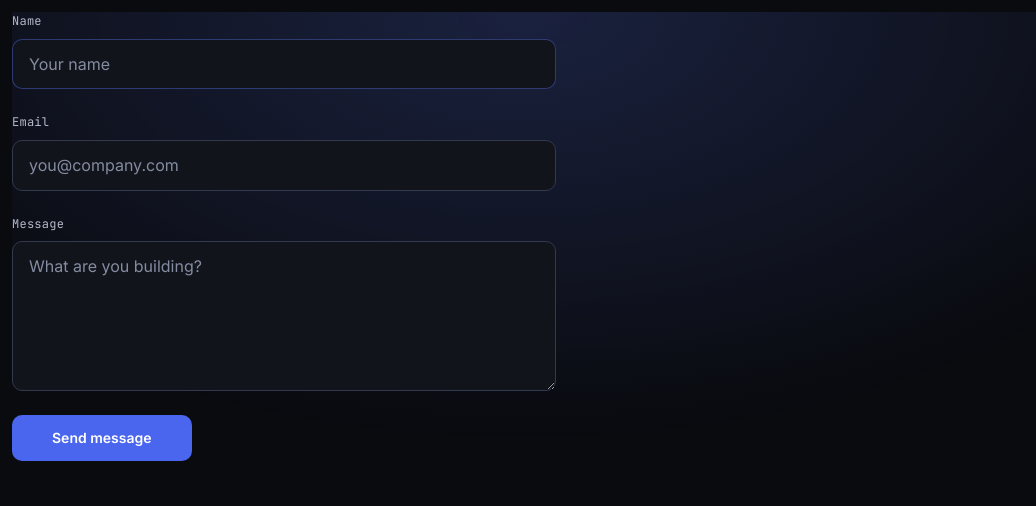
Test case: ContactForm › rejects a malformed email
The width and height of the screenshot is (1036, 506).
Type "not-an-address" into the field labelled "Email" at (284, 165), box [12, 140, 556, 191]
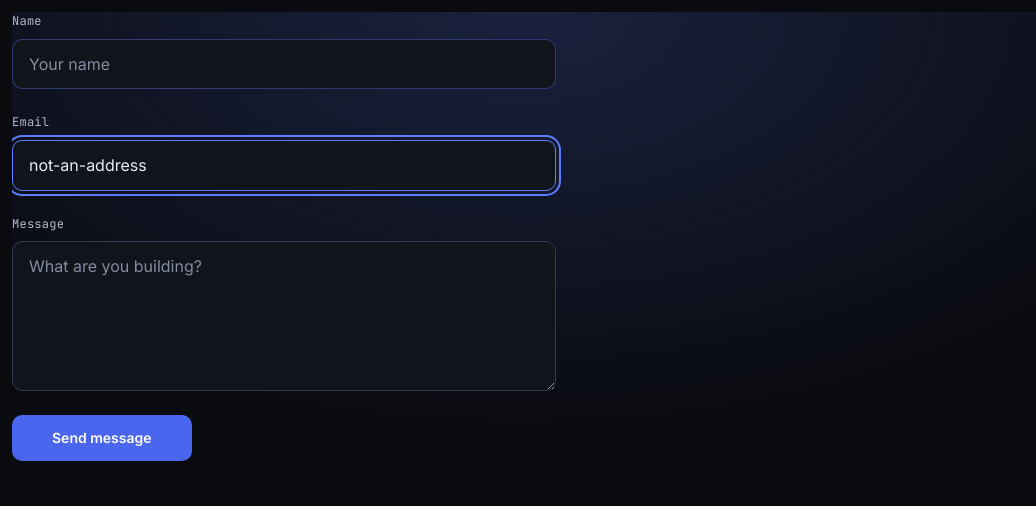
Press Tab
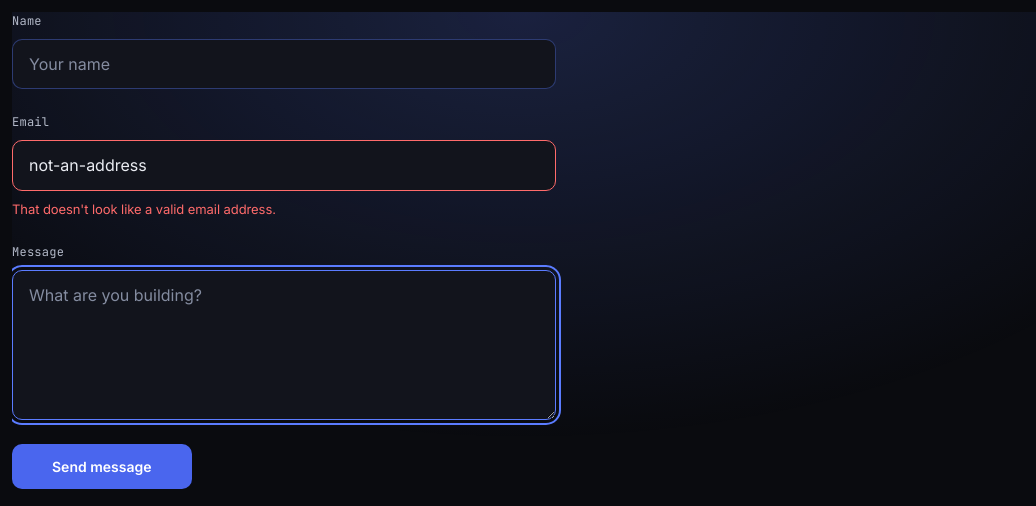
Result: the text "That doesn't look like a valid email address." is shown at [12, 201, 276, 217]
